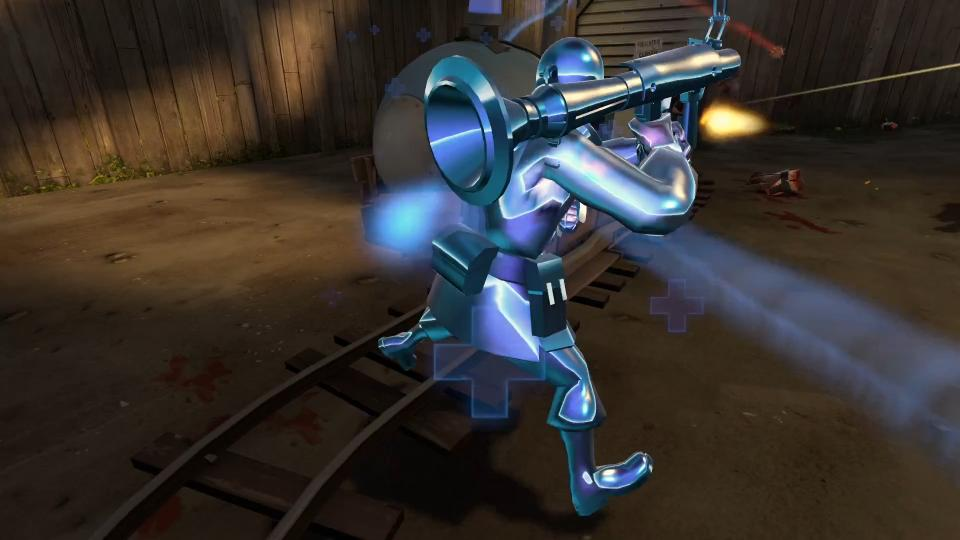Enemy: (377, 0, 745, 516)
